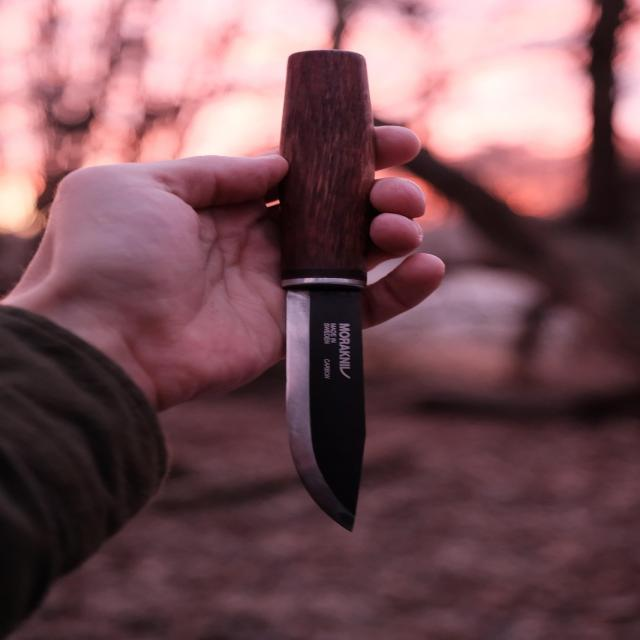Knife: (280, 50, 374, 530)
